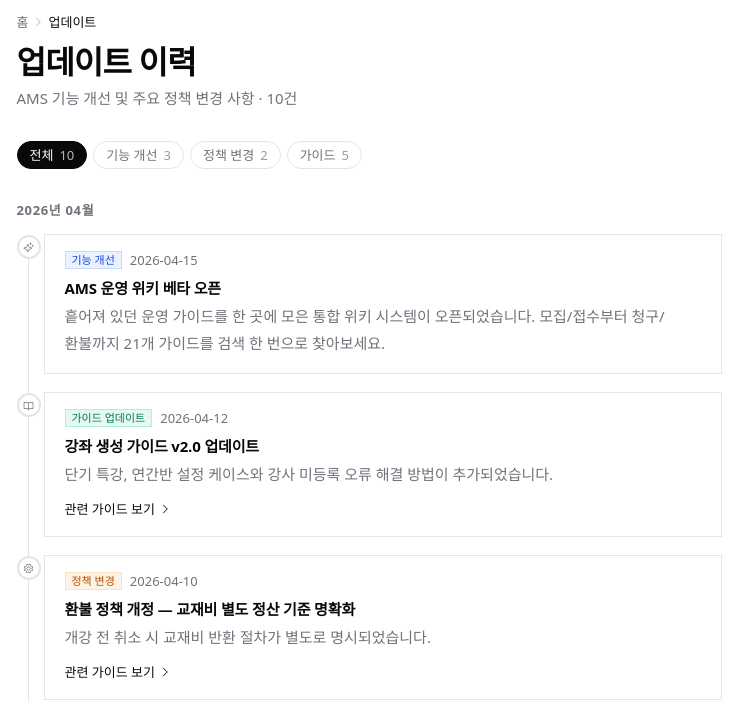
Scenario: UpdatesPage › "전체" 버튼을 다시 눌러 필터 해제하면 모든 업데이트 복원
Click the button "정책 변경 2" at {"x": 235, "y": 155}, box [190,141,281,169]
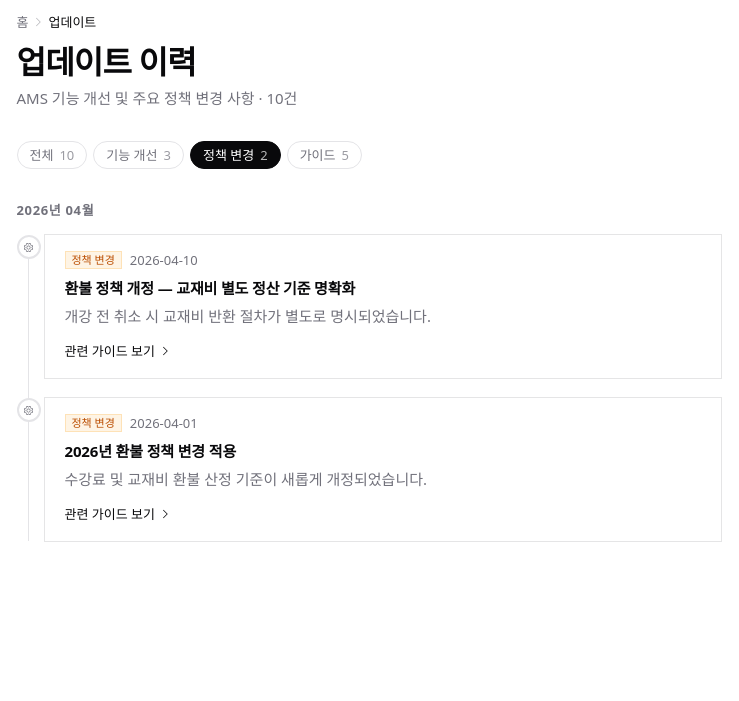
Expected: the heading "AMS 운영 위키 베타 오픈" is gone
Click the button "전체 10" at {"x": 52, "y": 155}, box [16,141,87,169]
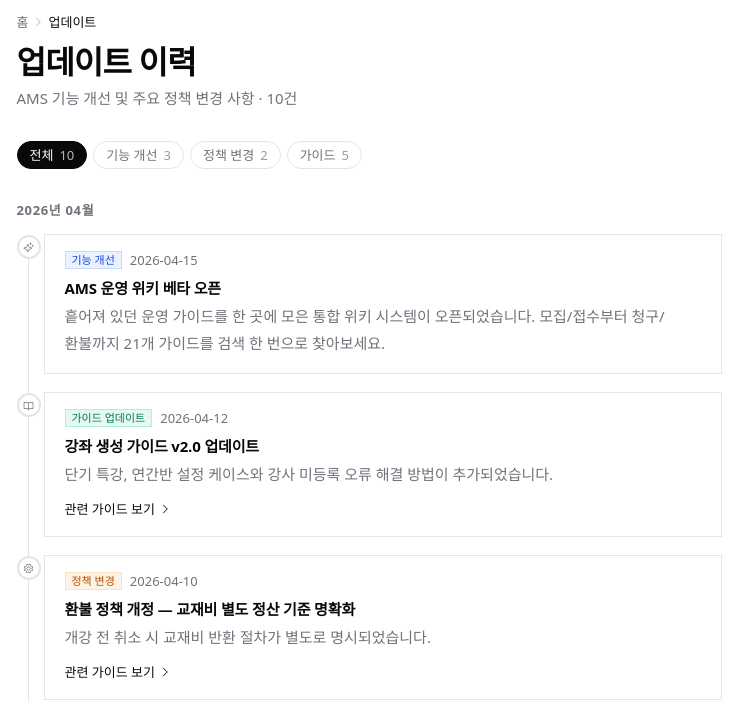
Expected: the heading "AMS 운영 위키 베타 오픈" is shown, [64,278,221,298]
